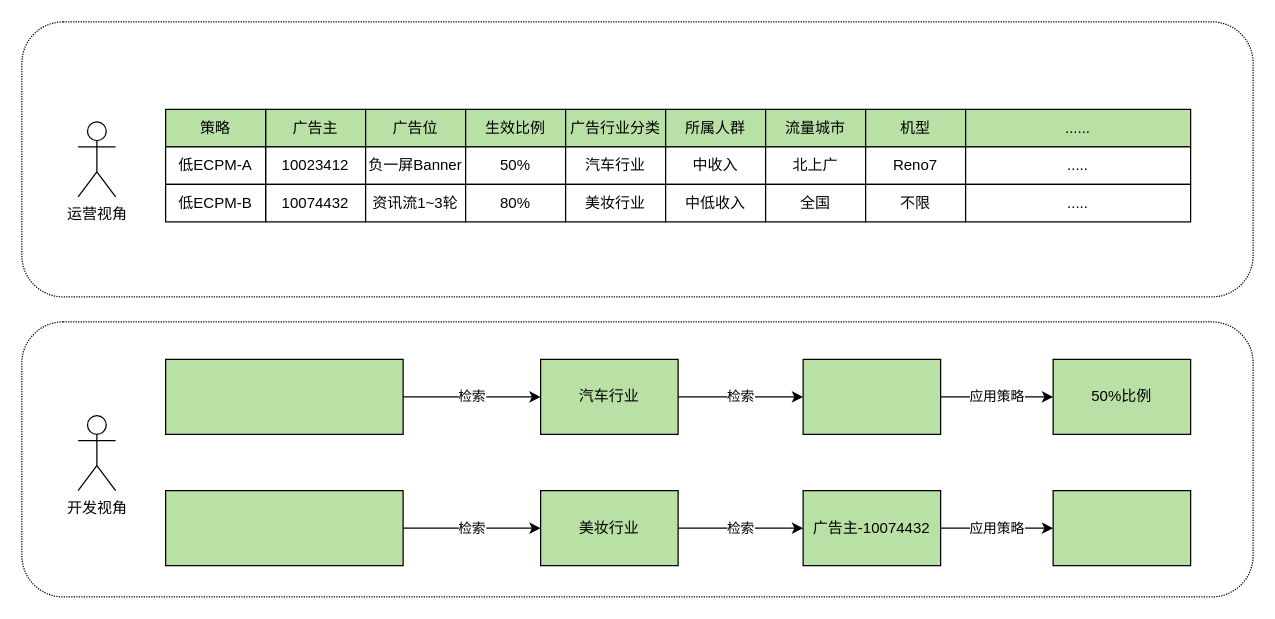
Image size: 1275x619. Some labels were removed from this diagram. The centre of each missing label's shape, as x and y in pixels:
"80%比例" belongs at pixel 1121 527.
"广告主-10023412" belongs at pixel 871 396.
"负一屏Banner+ 北京 + 中收入 + Reno7" belongs at pixel 283 396.
"资讯流+中低收入" belongs at pixel 283 527.
